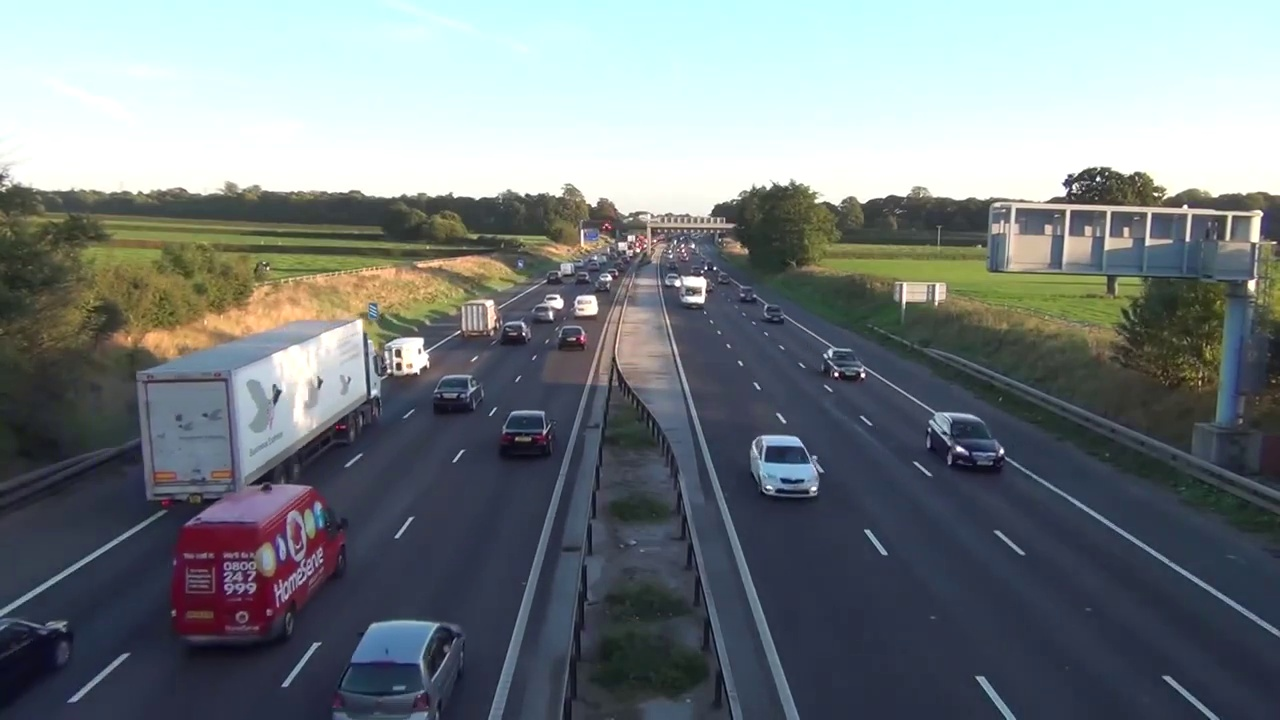bus: (332, 620, 466, 720), (2, 614, 76, 710), (923, 411, 1012, 475), (750, 435, 825, 503), (500, 409, 555, 461), (432, 375, 488, 414), (823, 348, 867, 381), (570, 293, 603, 321), (501, 322, 534, 344), (557, 326, 589, 348), (528, 305, 555, 324), (764, 305, 785, 326), (542, 292, 566, 306), (739, 286, 755, 302)
car: (136, 317, 385, 509), (458, 295, 504, 339)
lorry: (386, 336, 435, 378)
minibus: (170, 484, 353, 647), (677, 277, 706, 308)
